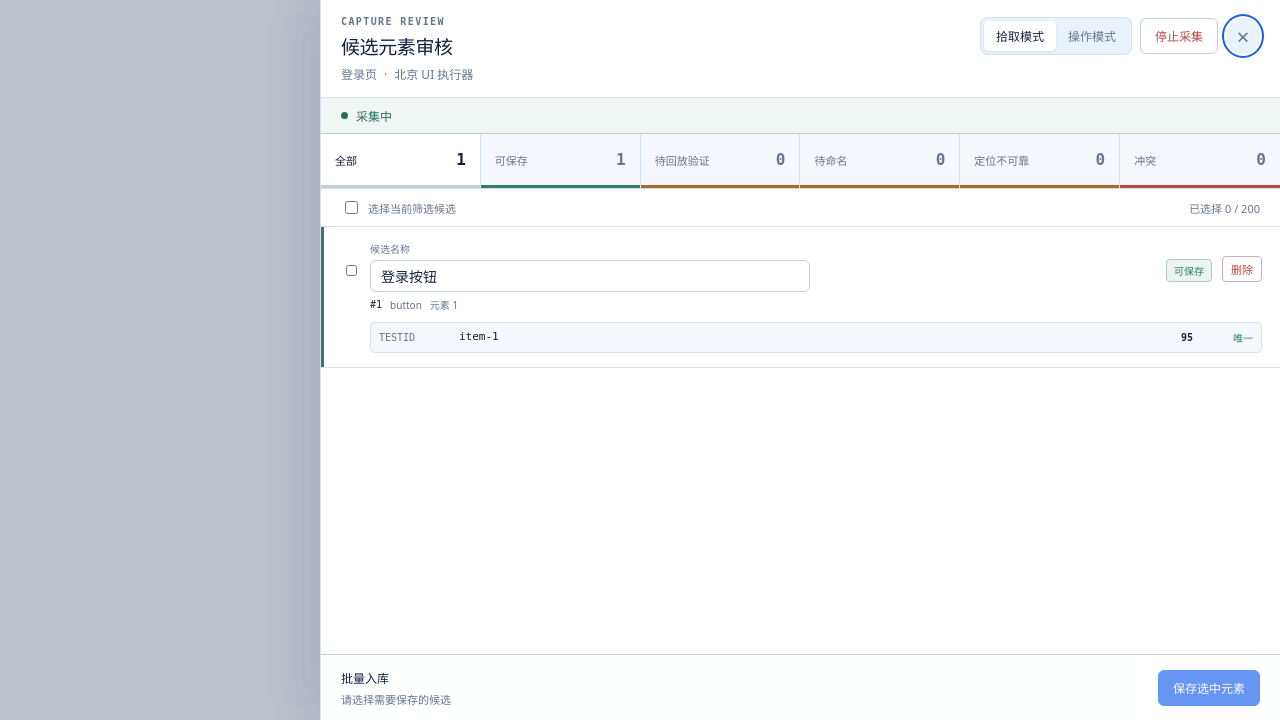
Test case: ElementCaptureDrawer › 409 issues 映射回候选并聚焦第一项
Step 1. Click the checkbox named "选择 登录按钮" → (352, 270), box [346, 264, 357, 277]
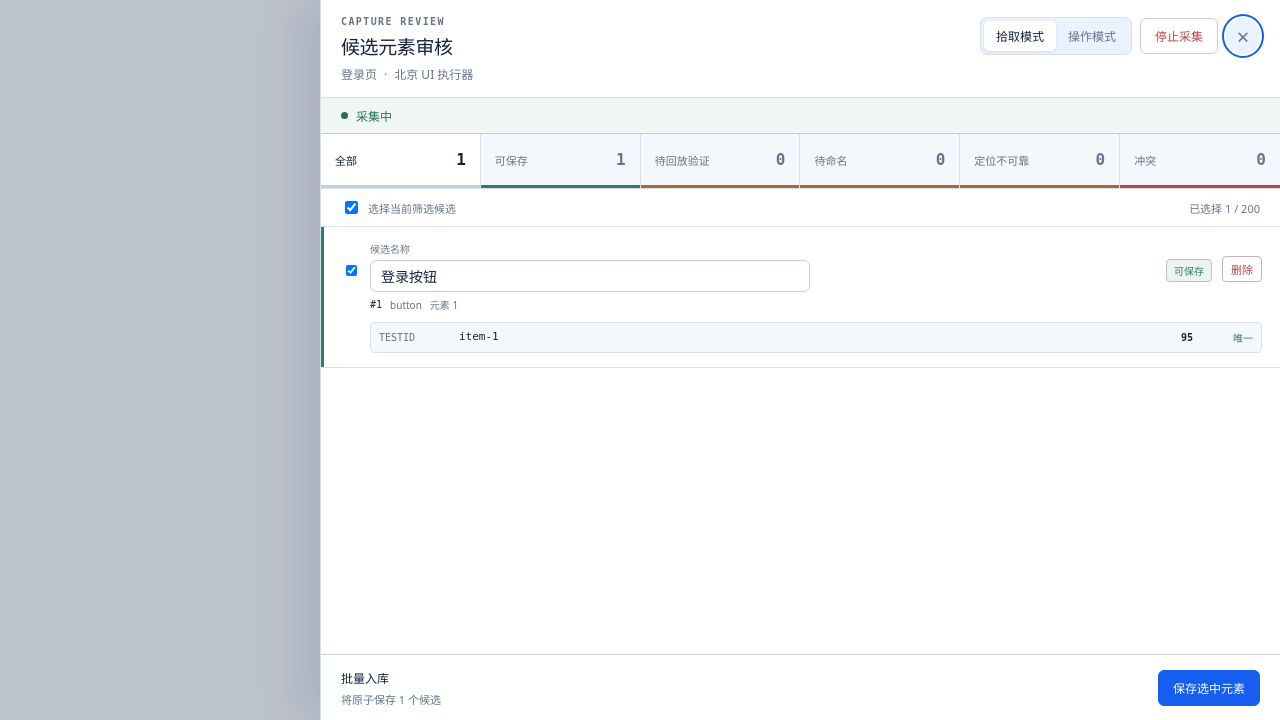
Step 2. Click the button "保存选中元素" → (1209, 688), box [1158, 670, 1260, 706]
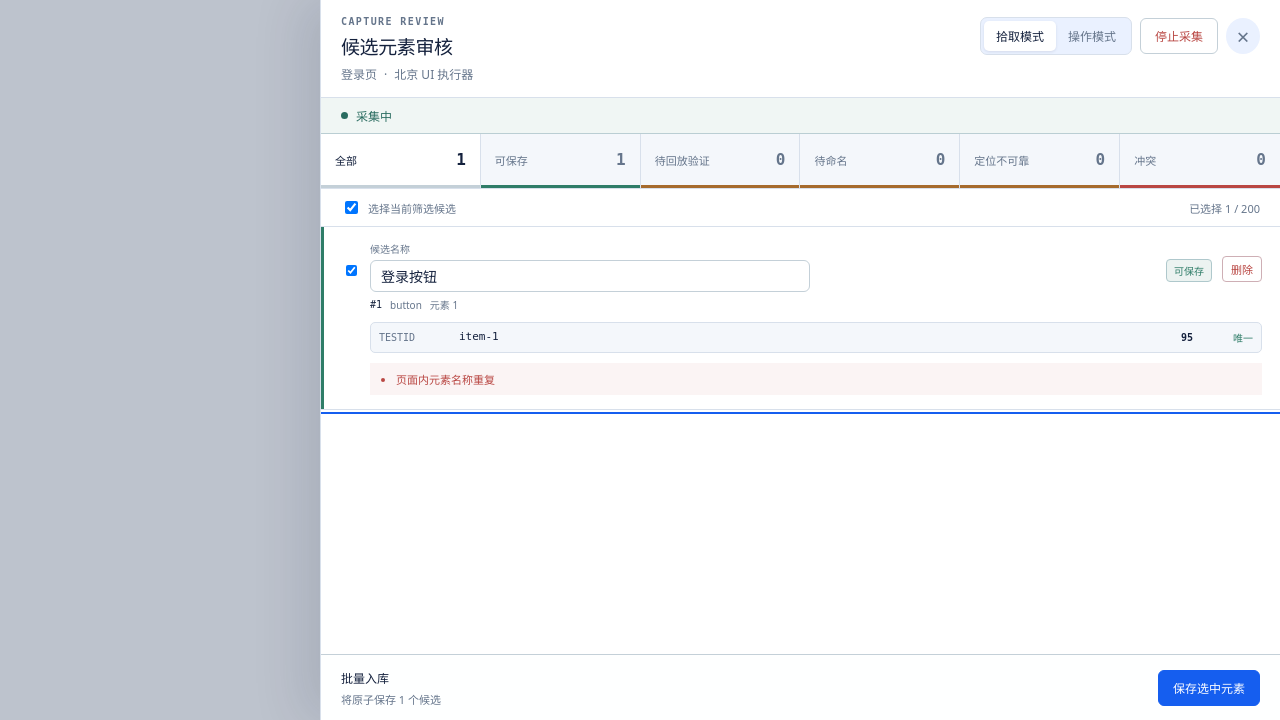
Now the list item "页面内元素名称重复" is shown, box [396, 372, 495, 387]
